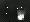person: (18, 7, 25, 20)
